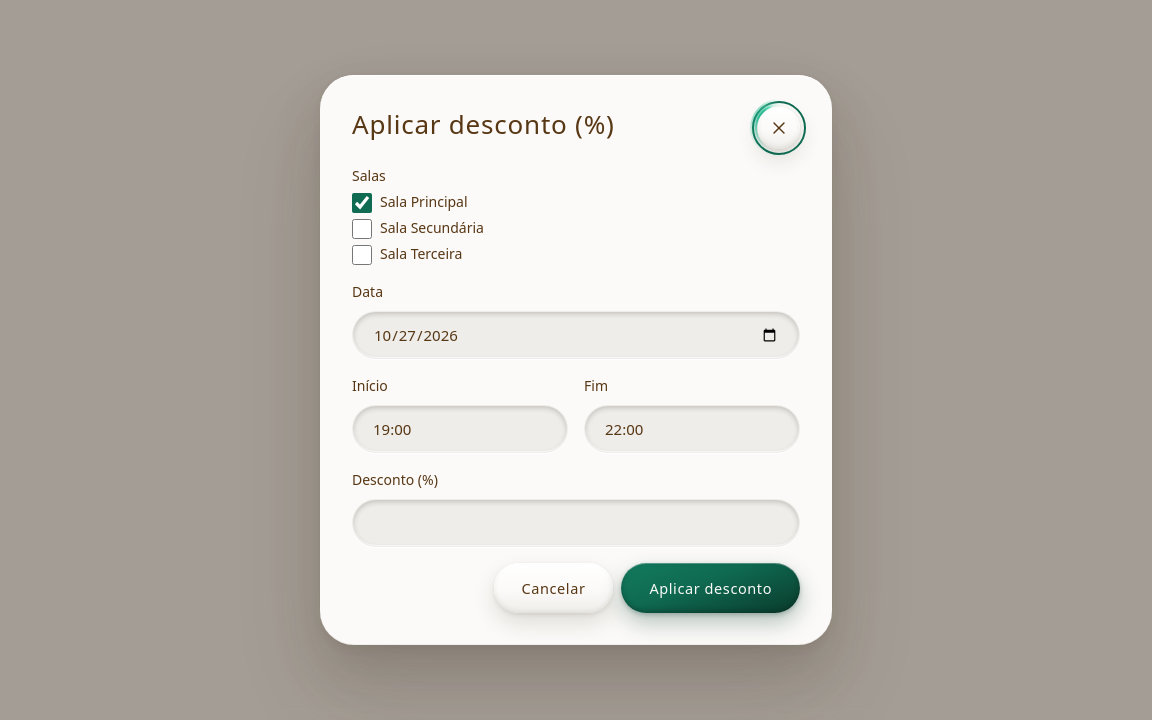
SlotDiscountDialog (REC-133, REC-136) › shows "Já existe desconto neste horário" on a 409 and keeps the form open
Expected: the checkbox labelled "Sala Principal" is shown, [352, 193, 372, 213]
In the number field labelled "Desconto (%)": (576,523) [352, 499, 800, 547], type "15"
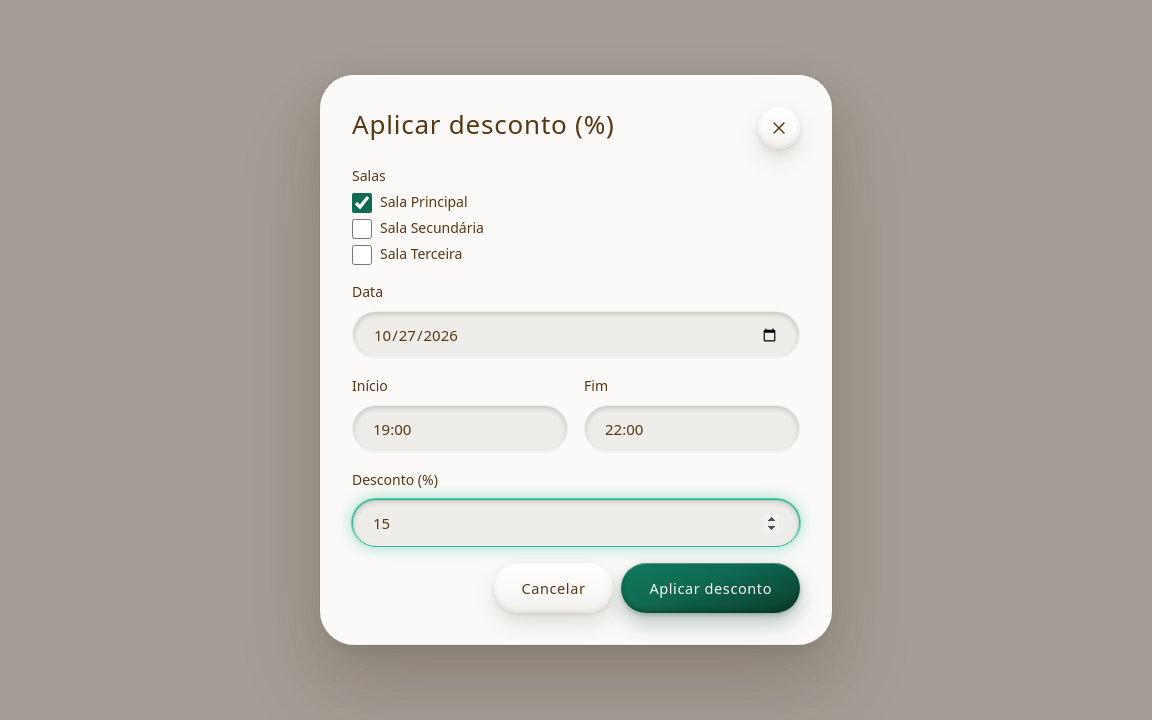
Click the button "Aplicar desconto": (711,588) [622, 563, 800, 613]
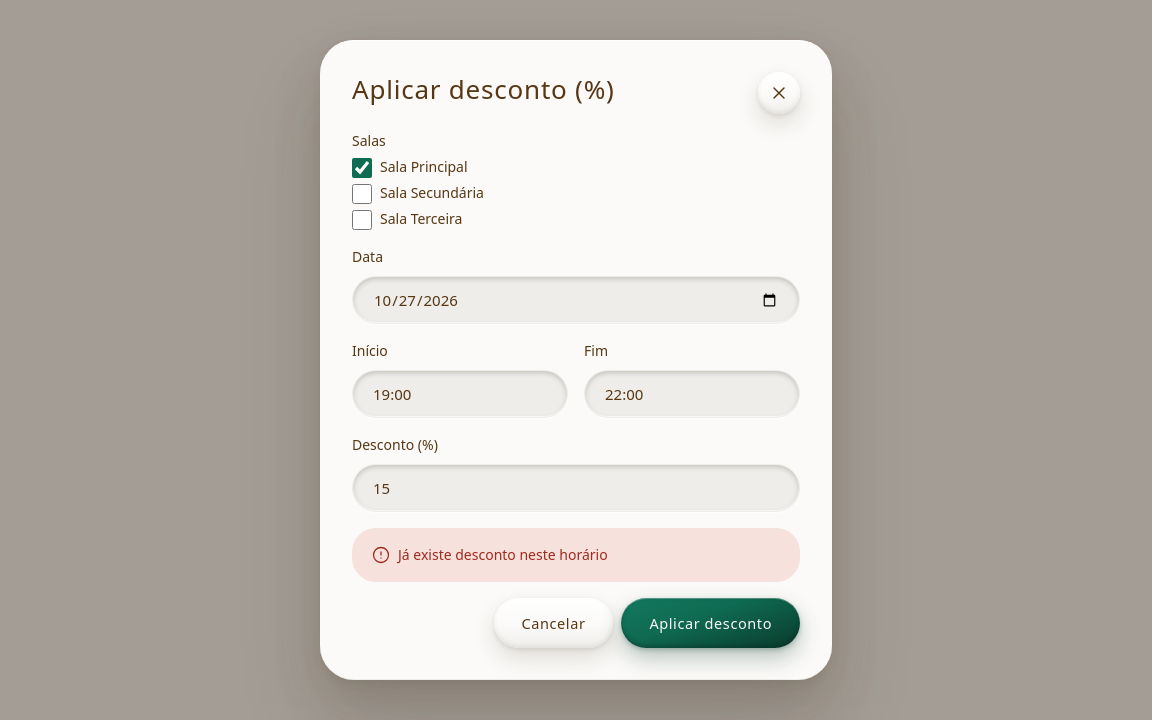
Expected: the dialog "Aplicar desconto (%)" is shown, [320, 40, 832, 680]
Expected: the message reads "Já existe desconto neste horário", [398, 545, 608, 564]
